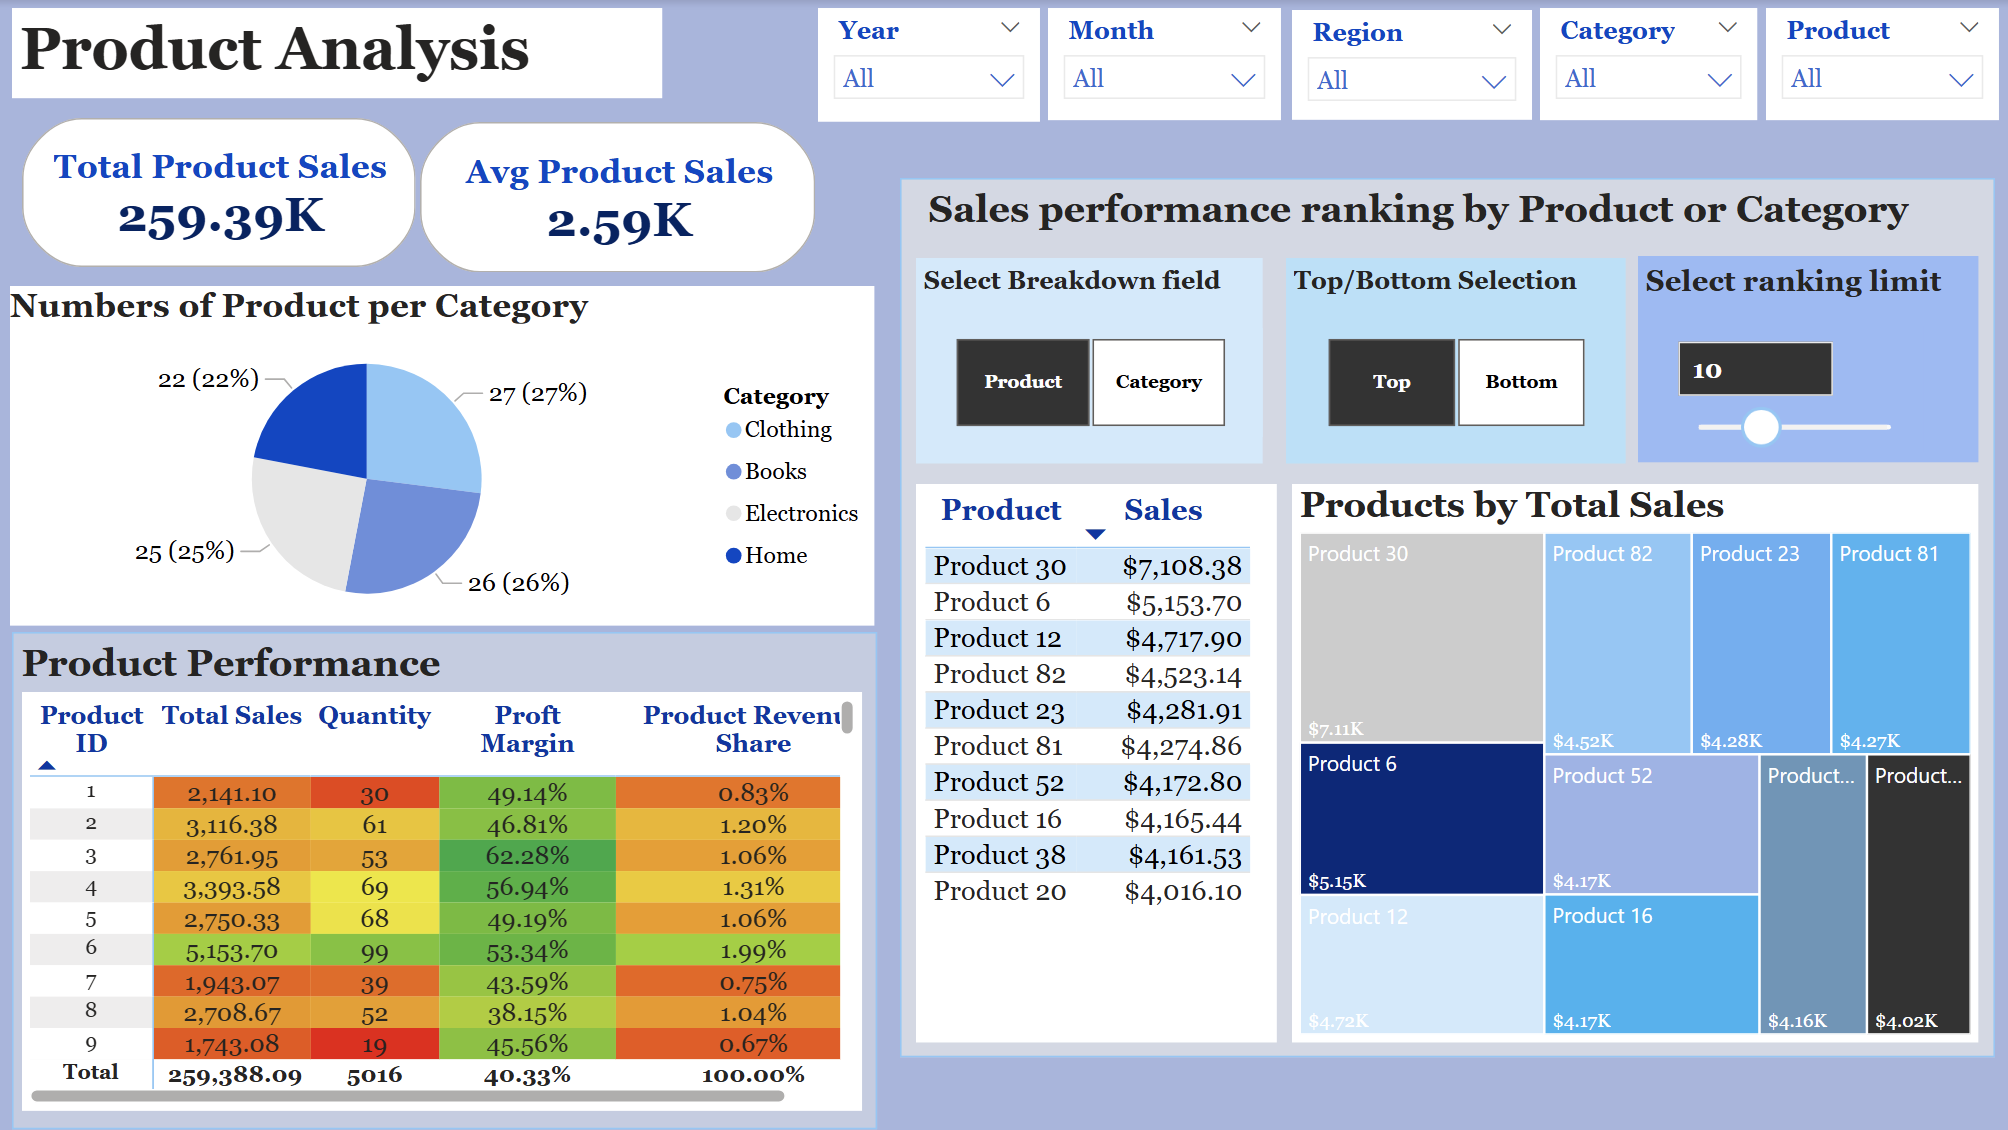

What the dashboard file says about the page in this screenshot:
{"tool":"powerbi","page":{"name":"Product Analysis","canvas":[1280,720],"ordinal":2},"visuals":[{"type":"textbox","box":[7.6,5.1,414.3,57.4],"z":0},{"type":"textbox","box":[584.2,163.9,221.1,131.1],"z":0,"group":"g3"},{"type":"slicer","fields":{"Values":["Products.ProductName"]},"box":[1125.7,5.7,148.6,71.4],"z":1000},{"type":"textbox","box":[820.2,164.1,216.3,131.1],"z":1000,"group":"g1"},{"type":"slicer","fields":{"Values":["Customers.Location"]},"box":[823.3,6.2,152.9,70],"z":2000},{"type":"textbox","box":[1044.2,163.5,217.1,131.4],"z":2000,"group":"g2"},{"type":"slicer","fields":{"Values":["Date.Year"]},"box":[521.4,5.1,141.5,72.7],"z":3000},{"type":"slicer","fields":{"Values":["Products.Category"]},"box":[981.4,5.7,138.6,71.4],"z":4000},{"type":"slicer","fields":{"Values":["Date.Month Name"]},"box":[668.6,5.7,148.6,71.4],"z":5000},{"type":"cardVisual","fields":{"Data":["Sales.Total Sales"]},"box":[13.6,75.7,251.4,95.4],"z":6000},{"type":"slicer","fields":{"Values":["Ranking Option.Ranking Option"]},"box":[1057.4,207.6,169.3,80.5],"z":6000,"group":"g2"},{"type":"pieChart","title":"Numbers of Product per Category","fields":{"Y":["Count(Products.ProductID)"],"Category":["Products.Category"]},"box":[6.4,182.3,550.8,216.7],"z":7000},{"type":"slicer","fields":{"Values":["TopBottom.Value"]},"box":[821.8,208.3,213,69.5],"z":7000,"group":"g1"},{"type":"cardVisual","fields":{"Data":["Products.Avg Product Sales"]},"box":[268,77.2,252.9,96.9],"z":8000},{"type":"slicer","fields":{"Values":["Breakdown.Breakdown"]},"box":[584.2,208.1,221.1,69.5],"z":8000,"group":"g3"},{"type":"textbox","box":[573.9,113.6,698,560.3],"z":9000},{"type":"tableEx","fields":{"Values":["Products.ProductName","Products.Ranking"]},"box":[584.5,308.9,230.2,355.8],"z":10000},{"type":"group","id":"g1","title":"Group 2","box":[820.2,164.1,216.3,131.1],"z":11000},{"type":"group","id":"g2","title":"Group 3","box":[1044.2,163.5,217.1,131.4],"z":12000},{"type":"group","id":"g3","title":"Group 1","box":[584.2,163.9,221.1,131.1],"z":13000},{"type":"treemap","title":"Products by Total Sales","fields":{"Group":["Products.ProductName"],"Values":["Products.Ranking"]},"box":[823.7,308.9,437.6,355.8],"z":14000},{"type":"textbox","box":[7.1,402.9,551.4,317.1],"z":15000},{"type":"pivotTable","fields":{"Rows":["Sales.ProductID"],"Values":["Sales.Total Sales","Sum(Sales.Quantity)","Sales.Proft Margin","Sales.Product Revenue Share"]},"box":[14.3,441.4,535.7,267.1],"z":16000}]}

Visuals, with their boxes in screenshot pixels (x1, y1, x2, y2), scaled from the page's 1280x720 canvas onto the 2008x1130 screenshot:
textbox: [left=12, top=8, right=662, bottom=98]
textbox: [left=916, top=257, right=1263, bottom=463]
slicer - Products.ProductName: [left=1766, top=9, right=1999, bottom=121]
textbox: [left=1287, top=258, right=1626, bottom=463]
slicer - Customers.Location: [left=1292, top=10, right=1531, bottom=120]
textbox: [left=1638, top=257, right=1979, bottom=463]
slicer - Date.Year: [left=818, top=8, right=1040, bottom=122]
slicer - Products.Category: [left=1540, top=9, right=1757, bottom=121]
slicer - Date.Month Name: [left=1049, top=9, right=1282, bottom=121]
cardVisual - Sales.Total Sales: [left=21, top=119, right=416, bottom=269]
slicer - Ranking Option.Ranking Option: [left=1659, top=326, right=1924, bottom=452]
"Numbers of Product per Category" pieChart: [left=10, top=286, right=874, bottom=626]
slicer - TopBottom.Value: [left=1289, top=327, right=1623, bottom=436]
cardVisual - Products.Avg Product Sales: [left=420, top=121, right=817, bottom=273]
slicer - Breakdown.Breakdown: [left=916, top=327, right=1263, bottom=436]
textbox: [left=900, top=178, right=1995, bottom=1058]
tableEx - Products.ProductName x Products.Ranking: [left=917, top=485, right=1278, bottom=1043]
"Group 2" group: [left=1287, top=258, right=1626, bottom=463]
"Group 3" group: [left=1638, top=257, right=1979, bottom=463]
"Group 1" group: [left=916, top=257, right=1263, bottom=463]
"Products by Total Sales" treemap: [left=1292, top=485, right=1979, bottom=1043]
textbox: [left=11, top=632, right=876, bottom=1129]
pivotTable - Sales.ProductID x Sales.Total Sales: [left=22, top=693, right=863, bottom=1112]
